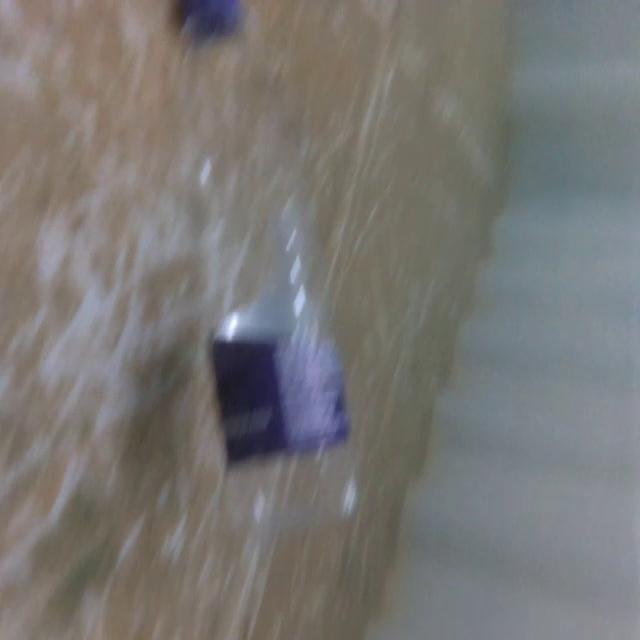plastic bottle: (125, 0, 389, 556)
